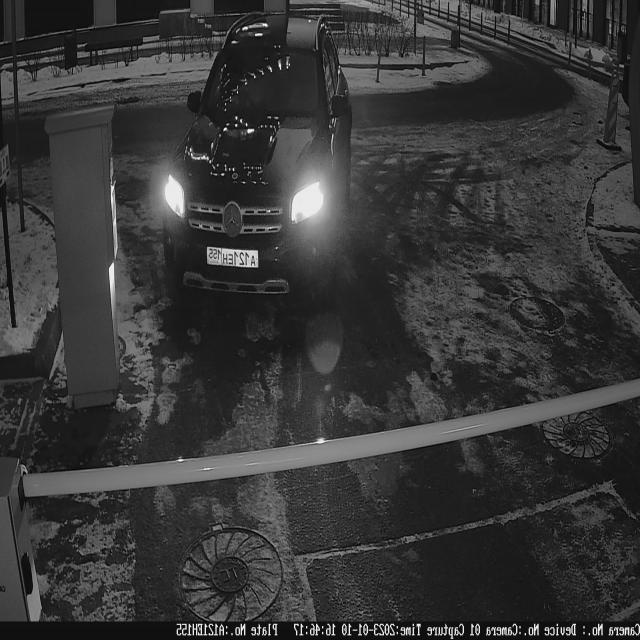car-plate-numbers: (205, 245, 261, 276)
